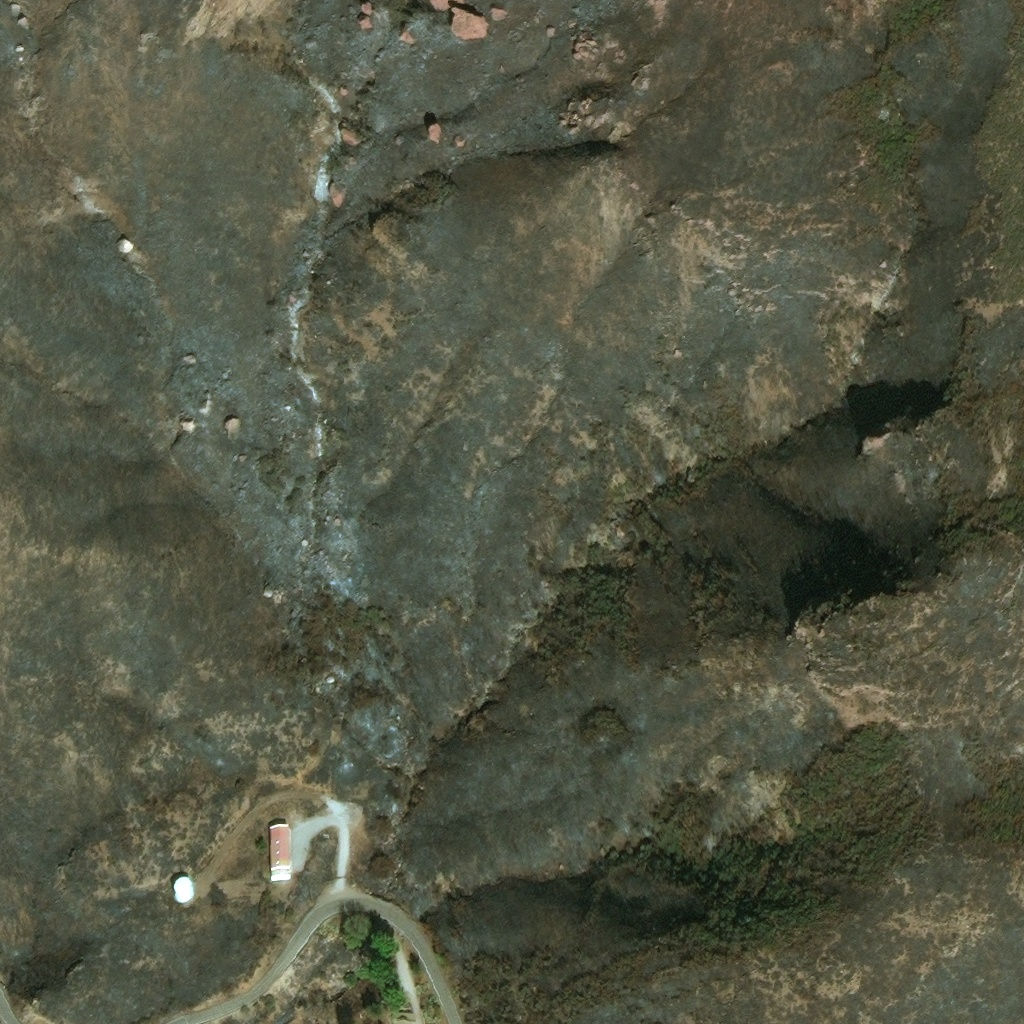0 no-damage: (269, 826, 292, 884), (172, 882, 193, 907), (393, 1010, 416, 1023)
